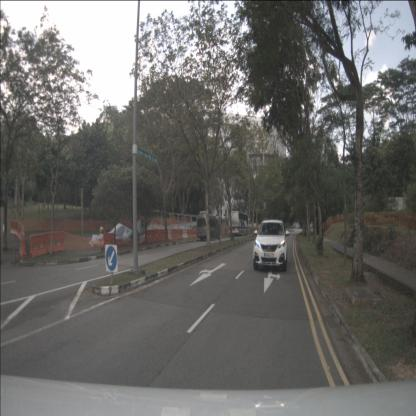movable_object-barrier: (45, 230, 65, 255), (30, 233, 48, 258), (19, 229, 28, 259), (102, 232, 115, 250), (143, 229, 153, 242), (17, 221, 22, 242), (152, 229, 159, 242), (10, 220, 16, 235), (157, 230, 163, 242), (172, 230, 178, 240), (178, 229, 184, 239), (167, 229, 172, 240), (186, 229, 192, 238), (182, 229, 188, 238), (163, 230, 167, 242), (192, 229, 197, 238)
vehicle-bus-rigid: (229, 211, 248, 237)
vehicle-car: (253, 219, 287, 272), (197, 213, 221, 241)
